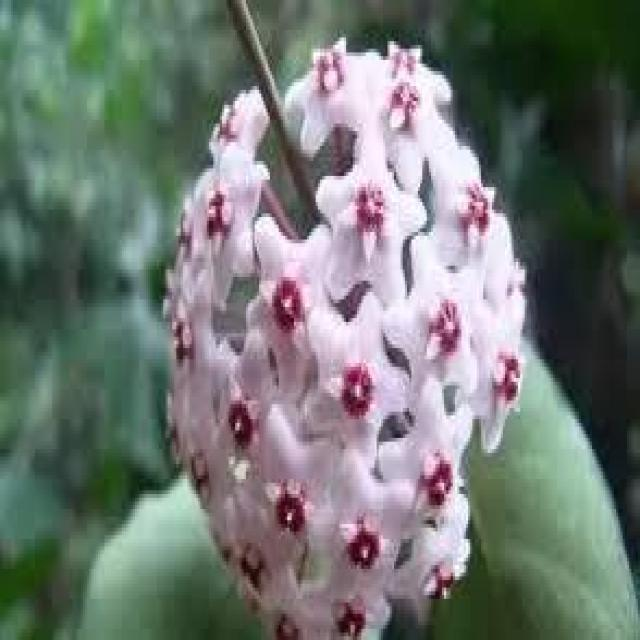organic waste: (159, 62, 529, 616)
